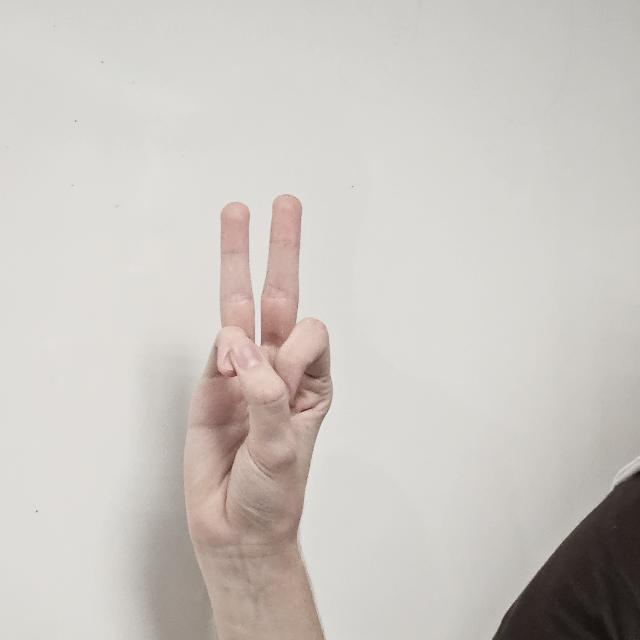R: (184, 196, 334, 560)
